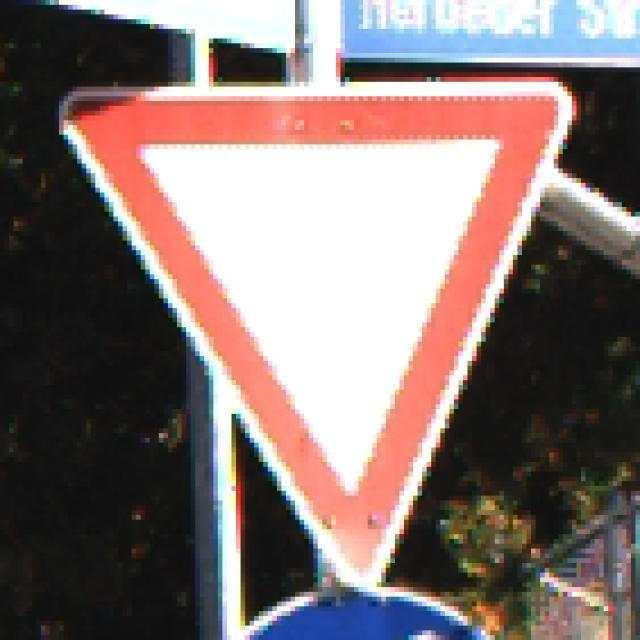give way: (58, 85, 584, 598)
